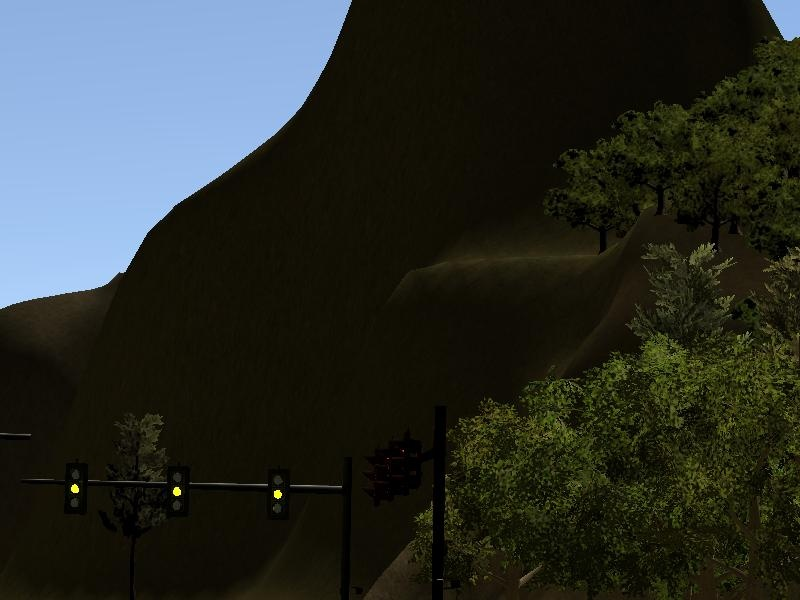YELLOW: (61, 461, 92, 516), (264, 467, 290, 522), (164, 461, 189, 516)
